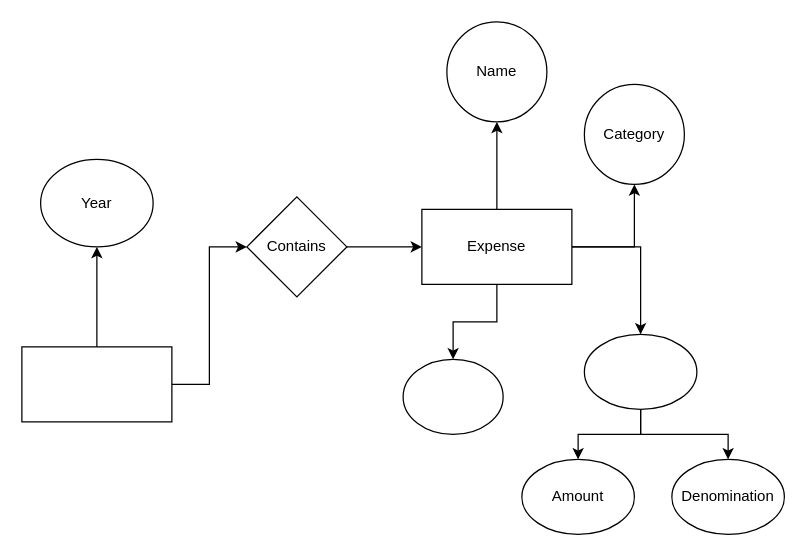
This 806x556 diagram has some shape labels left out. Here are the shapes that lost their labels. From the top down, the box of each, then its label:
(21, 346, 172, 422): Month
(583, 333, 697, 409): Price
(402, 358, 503, 434): date (YYYY-MM-DD)
